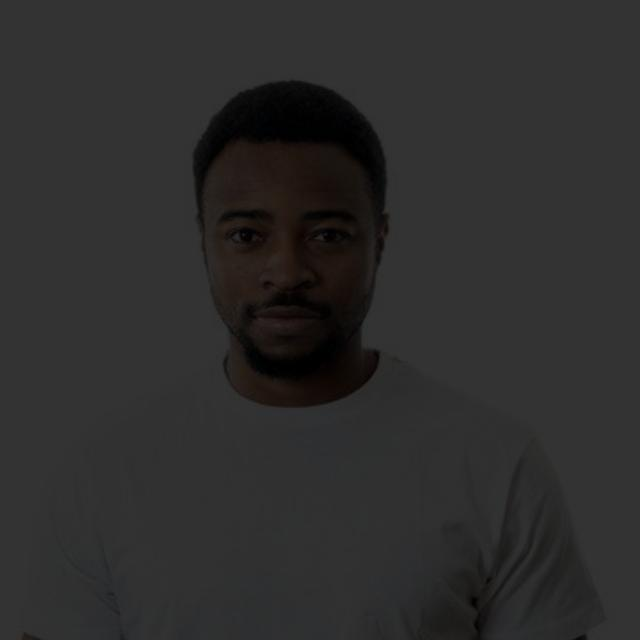natural: (182, 105, 396, 428)
